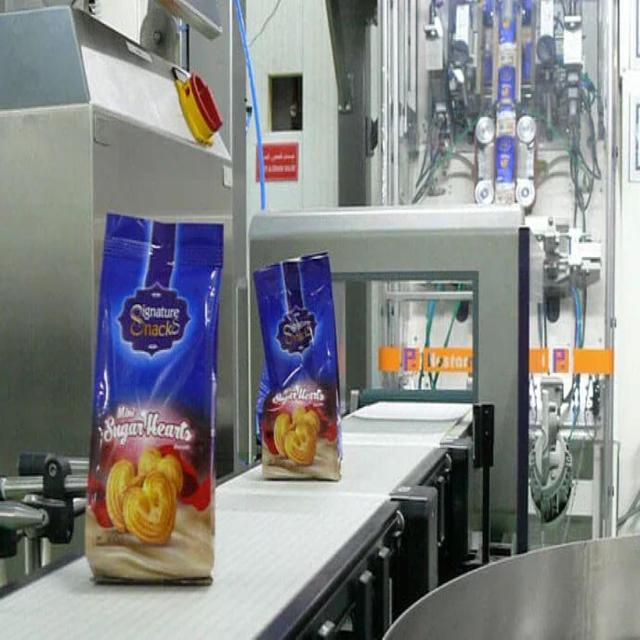food: (83, 210, 225, 587), (251, 249, 343, 483)
